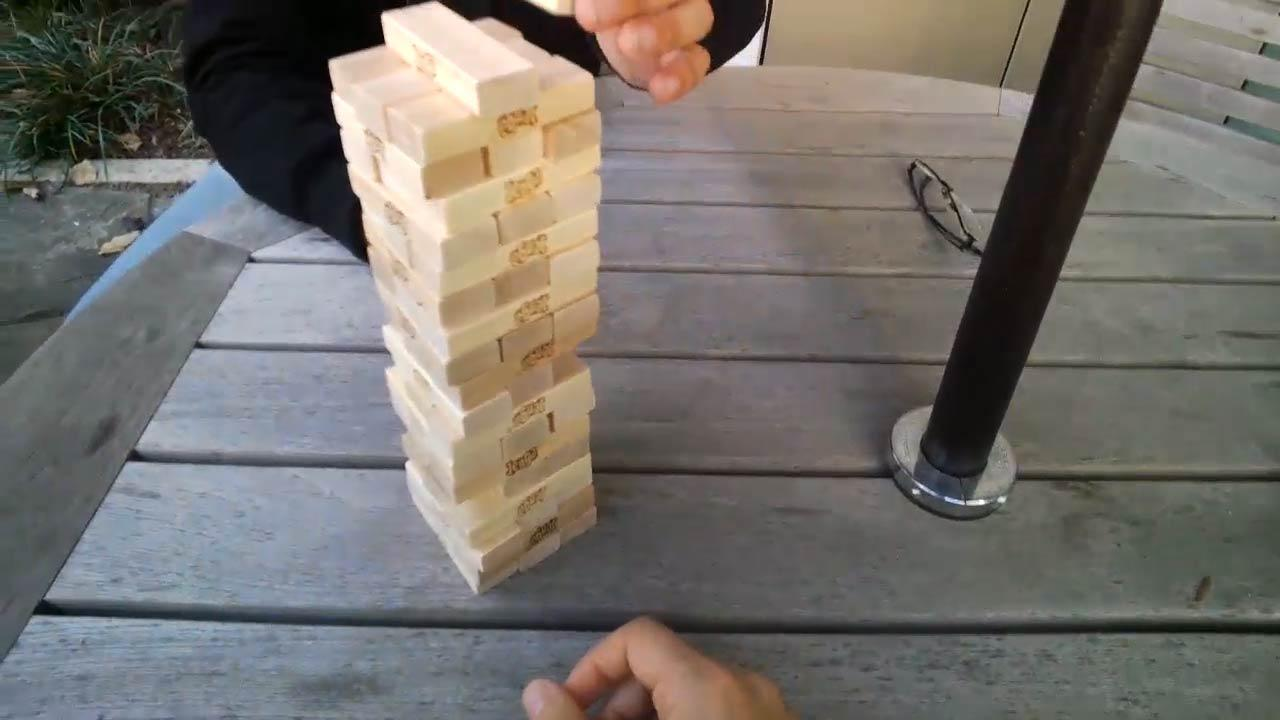hand: (515, 616, 796, 720), (573, 1, 719, 108)
